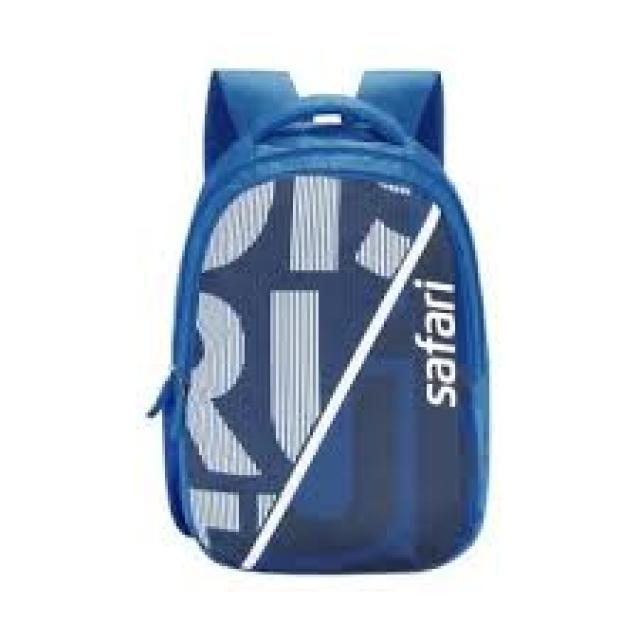backpack: (145, 66, 489, 574)
